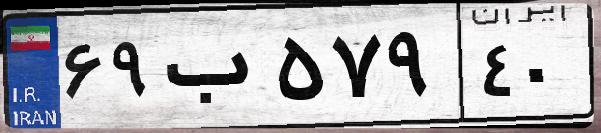0: (525, 38, 570, 115)
4: (475, 38, 525, 113)
5: (270, 28, 330, 110)
6: (57, 26, 110, 100)
7: (330, 28, 385, 110)
9: (385, 28, 445, 110), (110, 28, 158, 98)
ب: (158, 20, 270, 120)
